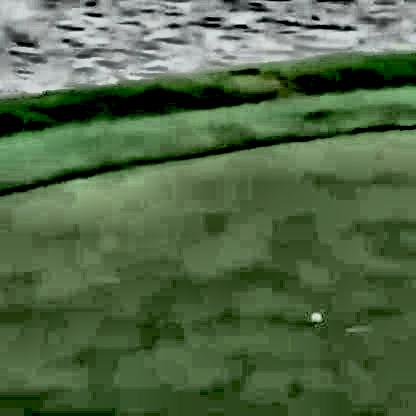golfball: (307, 311, 320, 321)
